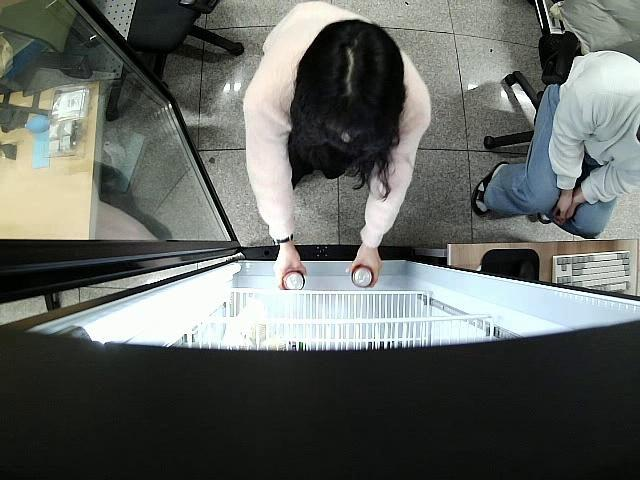11_cocaColaZero: (351, 265, 376, 288), (282, 269, 306, 292)
